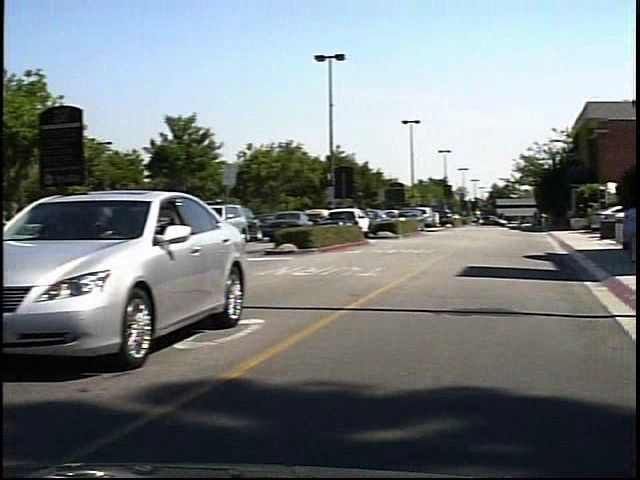person: (483, 207, 496, 229)
